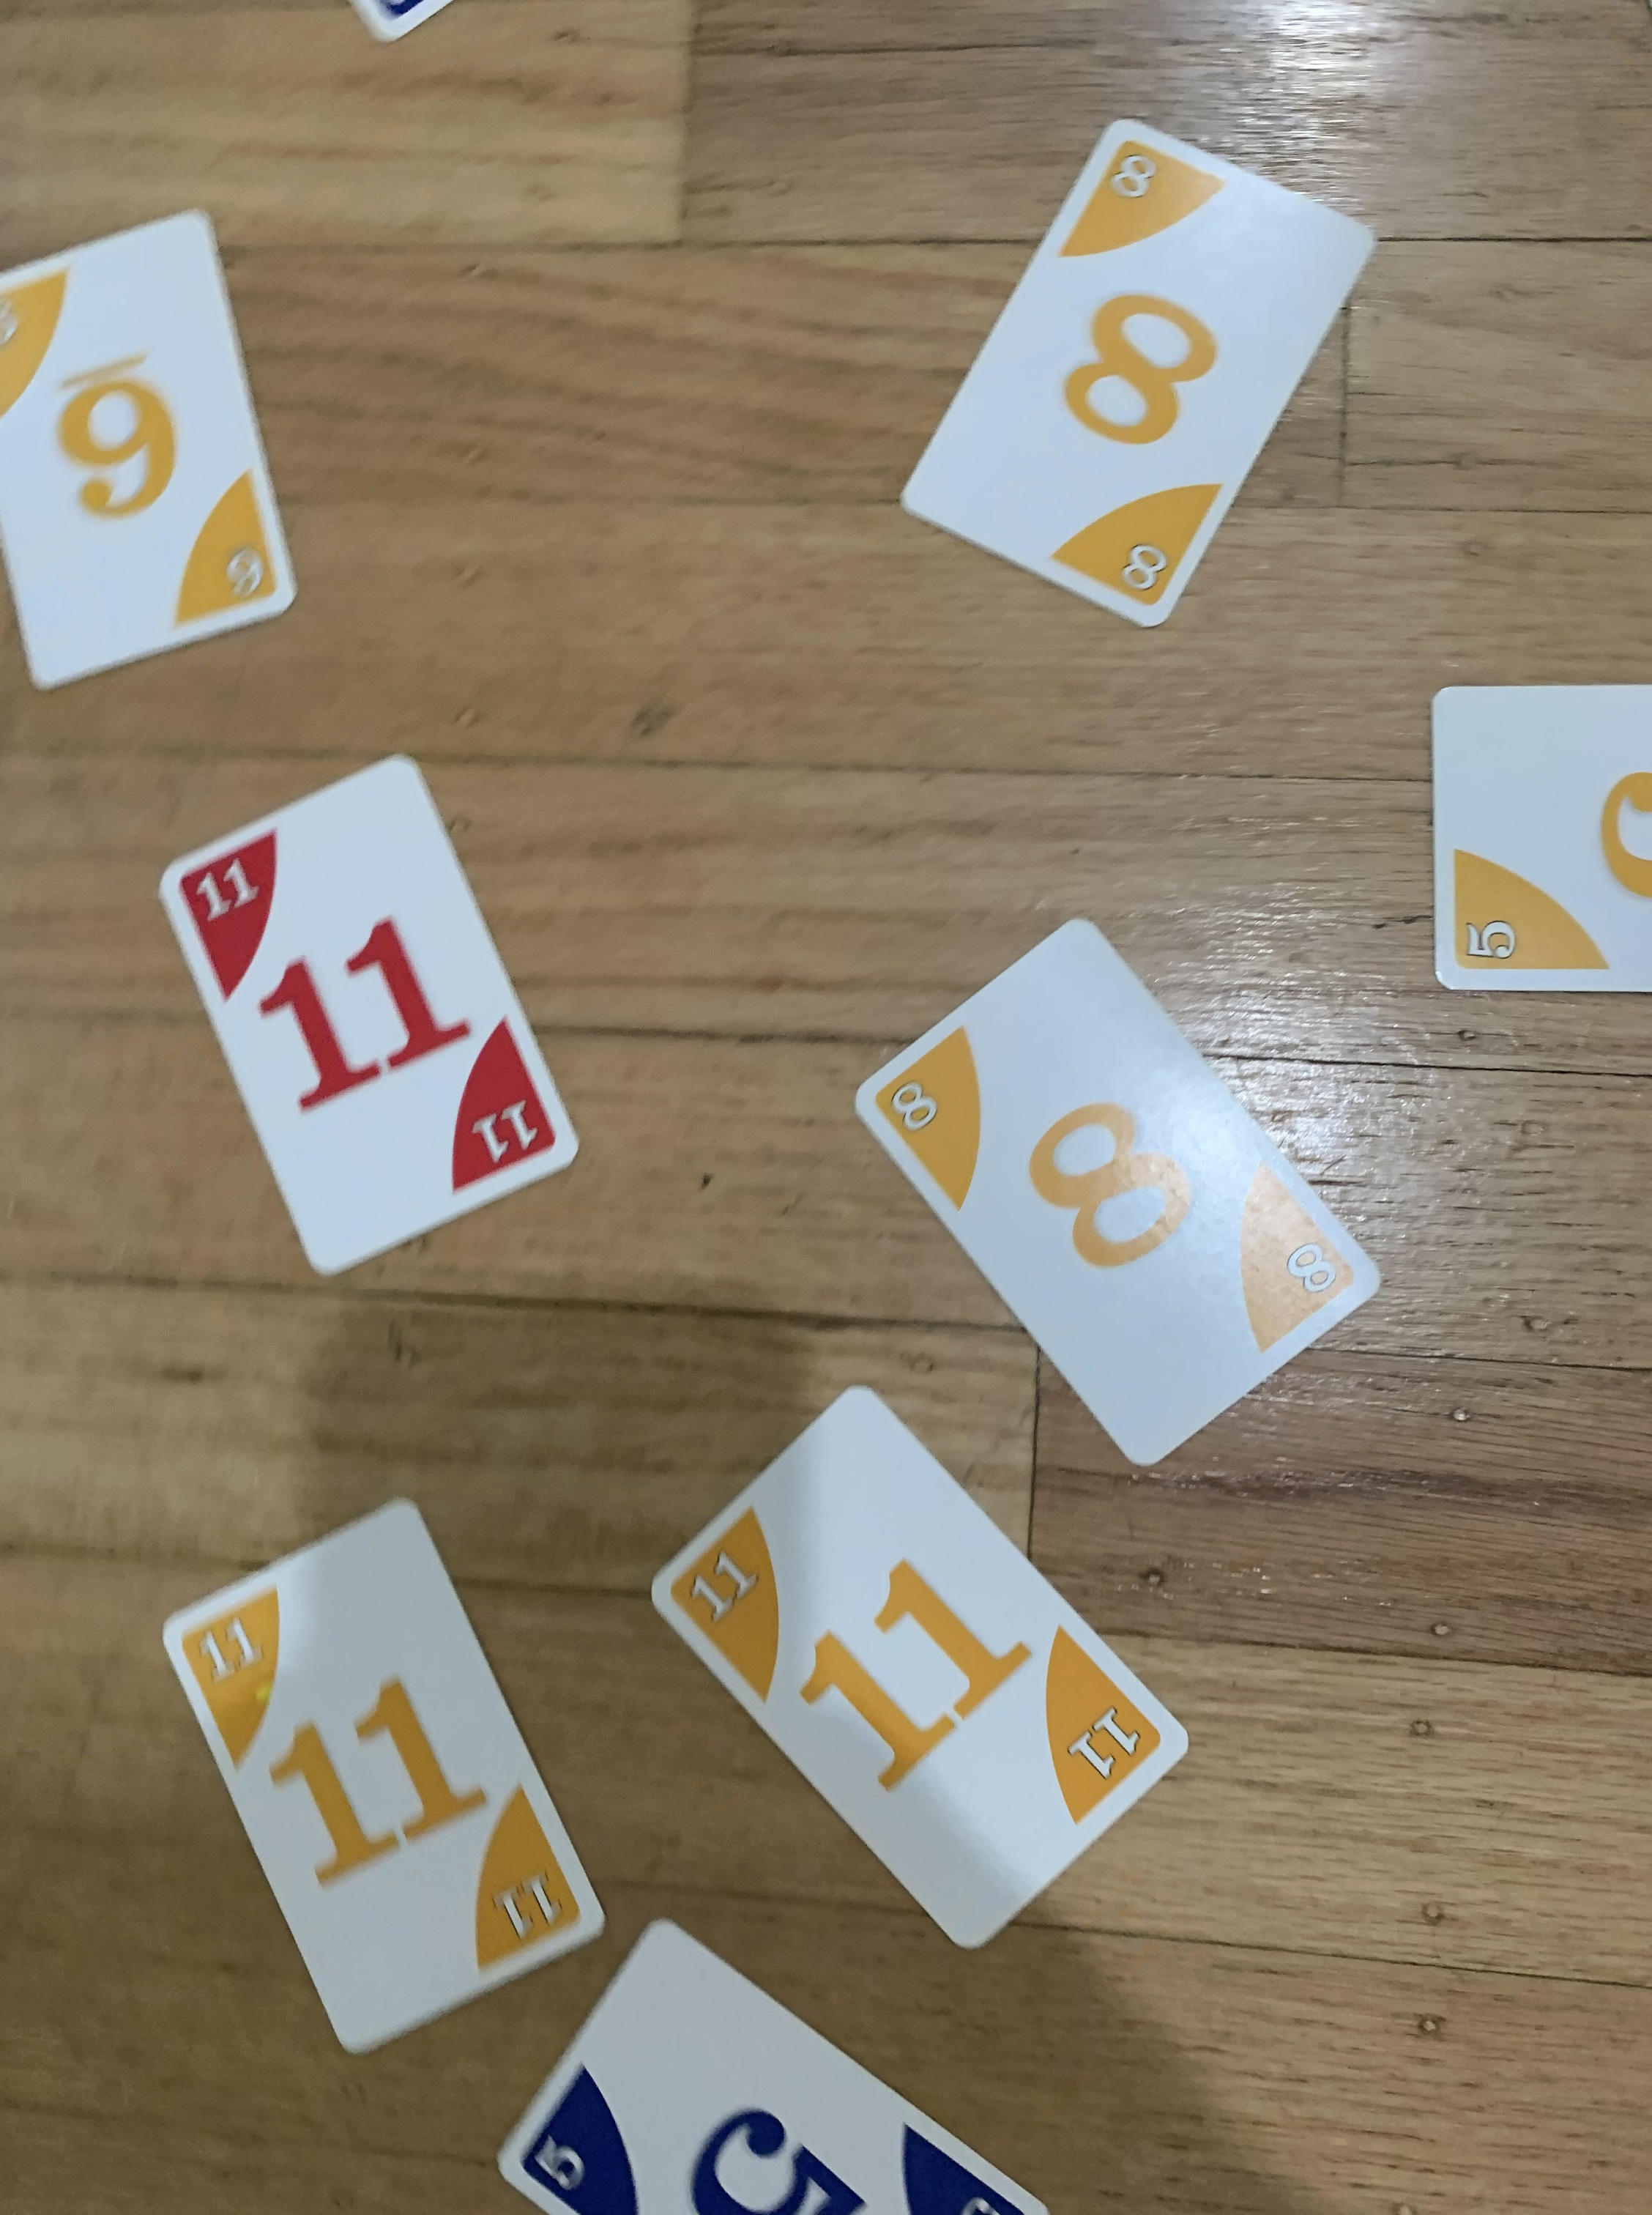eight: (840, 910, 1404, 1476), (880, 111, 1392, 641)
eleven: (635, 1370, 1199, 1967), (135, 1474, 619, 2090), (139, 745, 592, 1283)
